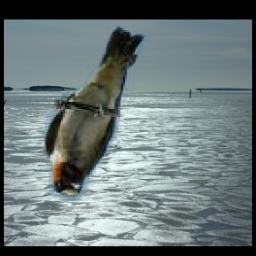Swallow: (46, 27, 149, 202)
